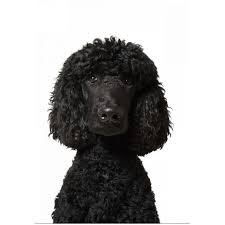Bulldog: (35, 23, 183, 225)
